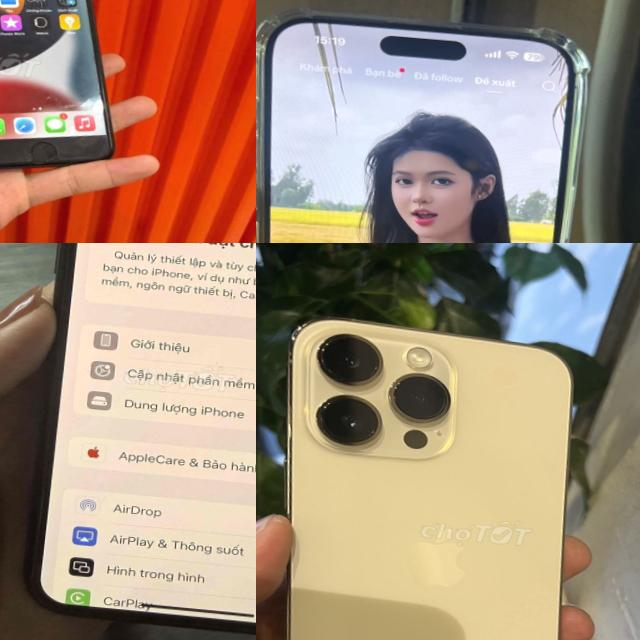gen_14: (256, 307, 596, 640)
gen_15: (256, 1, 605, 243)
gen_7_8: (0, 0, 141, 182)
gen_x_xs: (7, 243, 256, 640)
